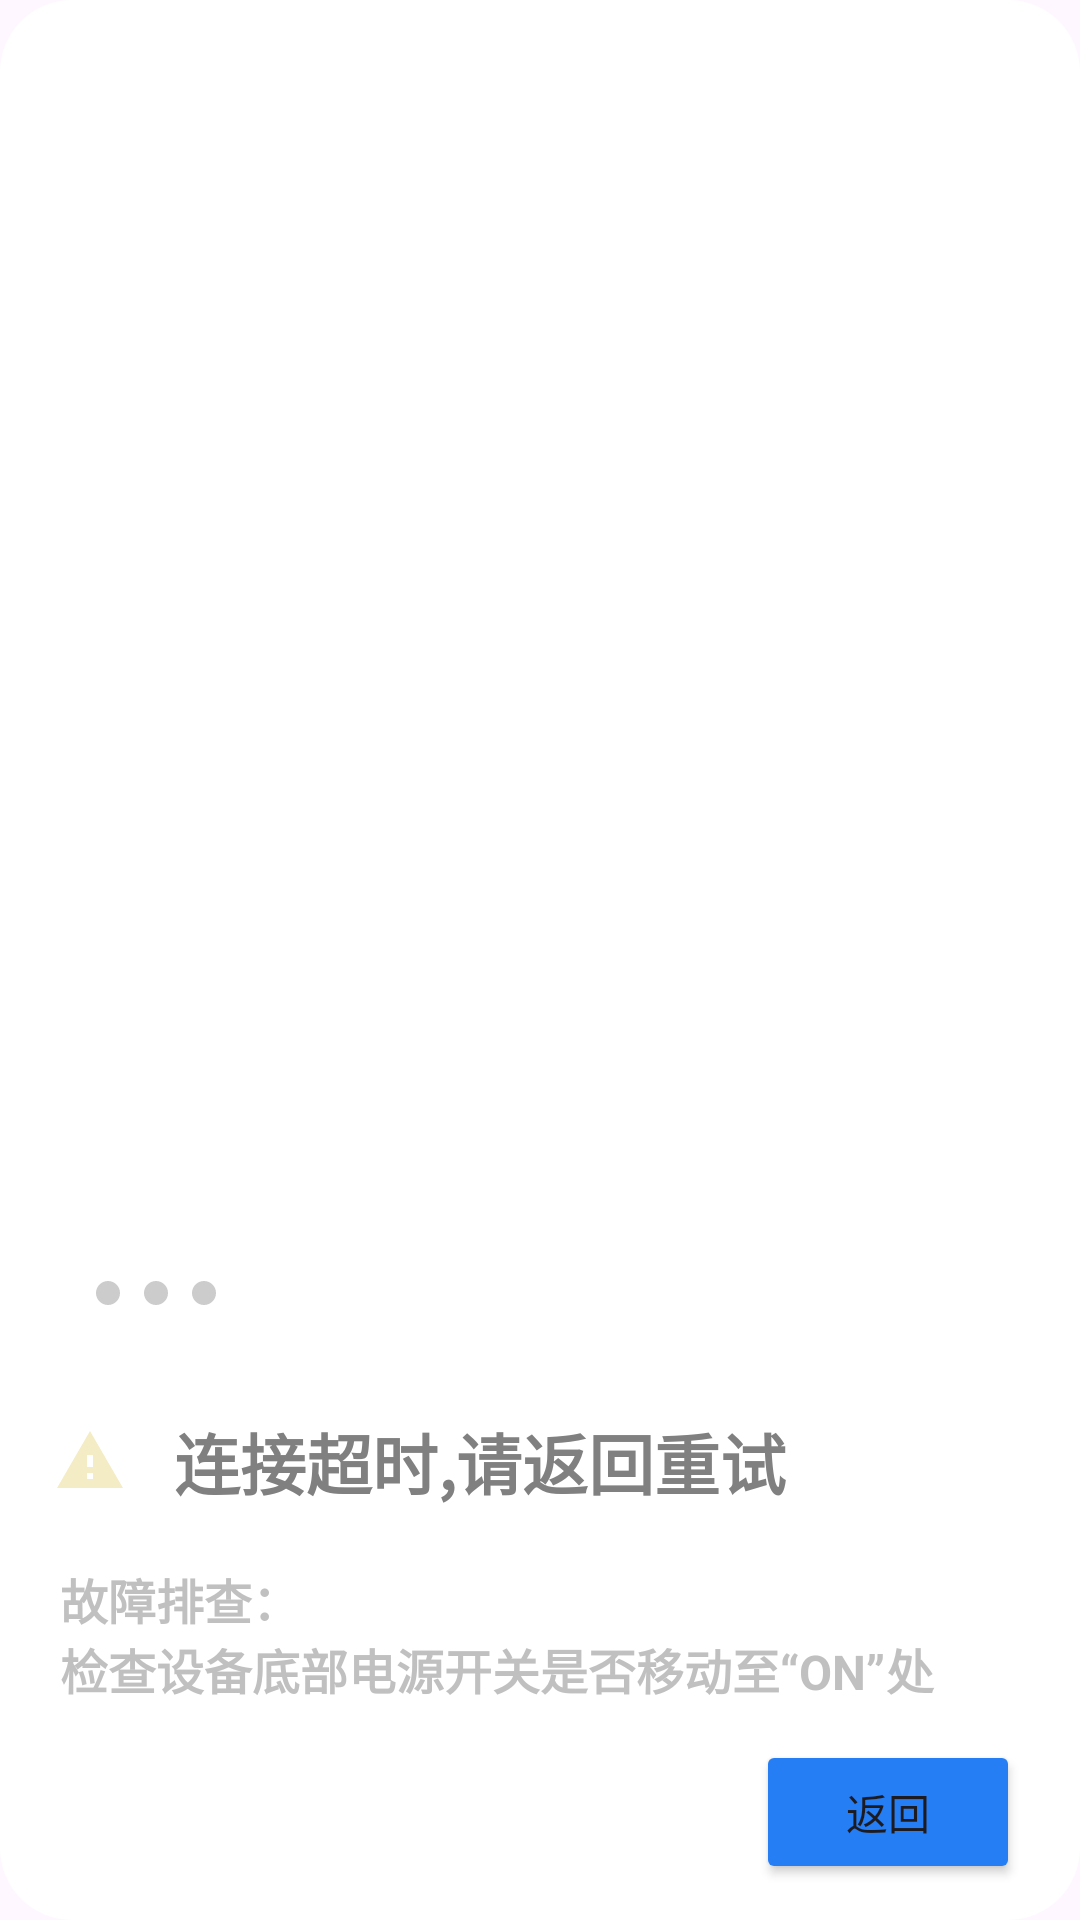

Icons on this 1080×1920 Android screen, each with its box as Rect(x1, y1, x2, y2):
warning: Rect(57, 1432, 123, 1488)
